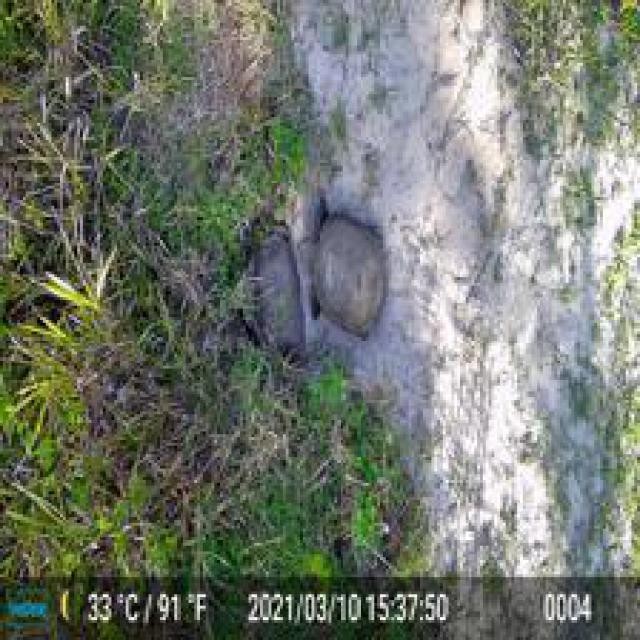tortoise: (300, 200, 391, 343)
